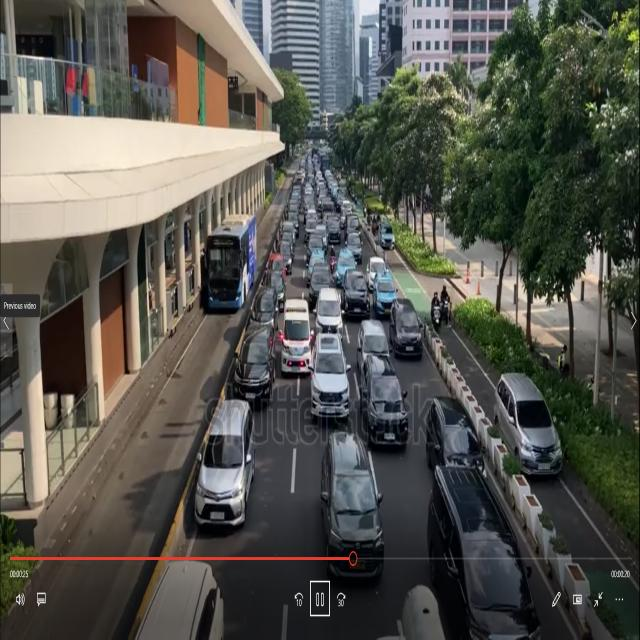Ambulance: (281, 292, 312, 381)
